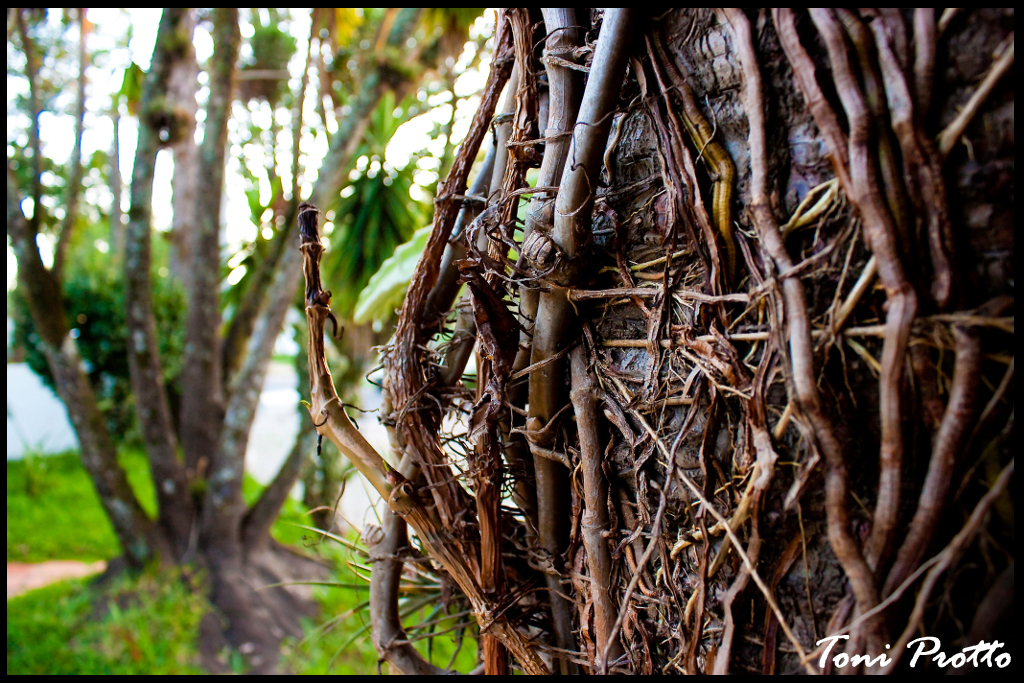Tree: (7, 7, 1024, 683)
